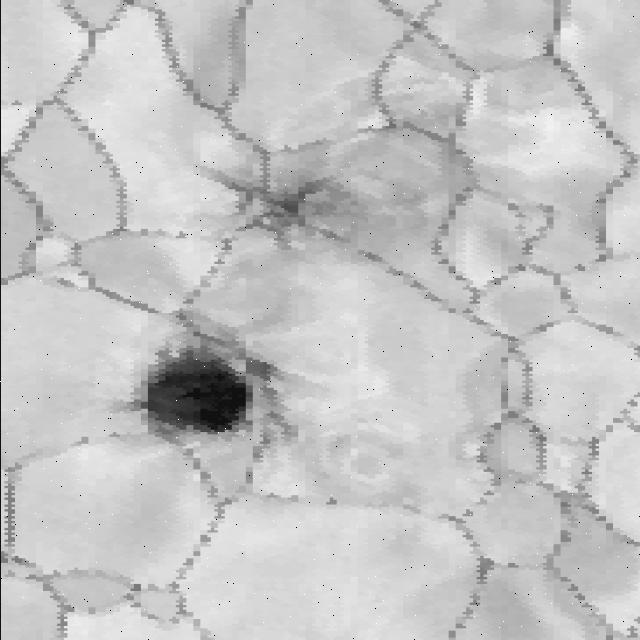good_void: (120, 340, 286, 454), (191, 165, 375, 248), (318, 491, 341, 512), (7, 97, 27, 108)
